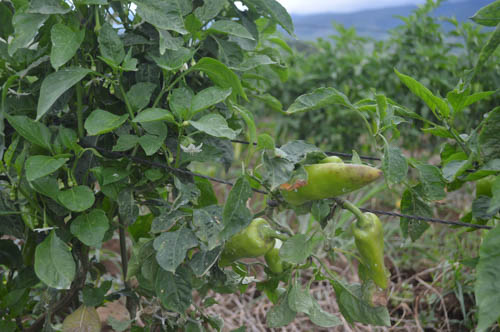ChiliPepper: (276, 162, 385, 202), (353, 213, 393, 289), (221, 218, 274, 260)
